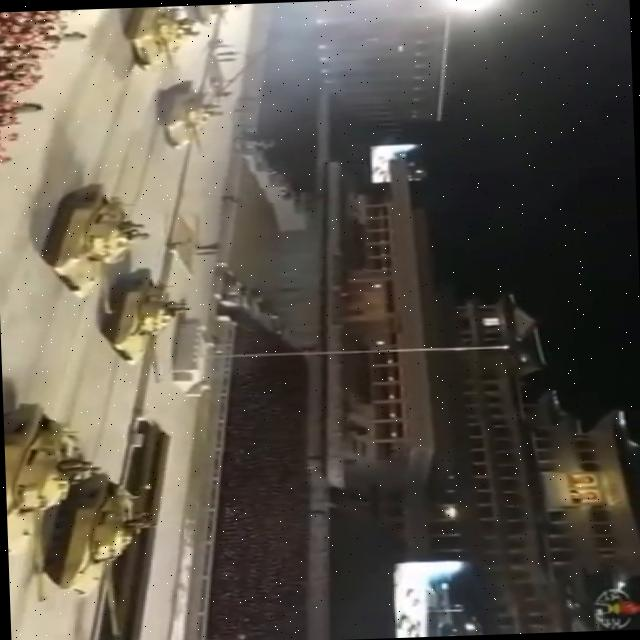north tank: (41, 464, 162, 602), (32, 170, 152, 292), (98, 272, 216, 388), (2, 396, 92, 538), (93, 3, 209, 78), (149, 70, 231, 153)
